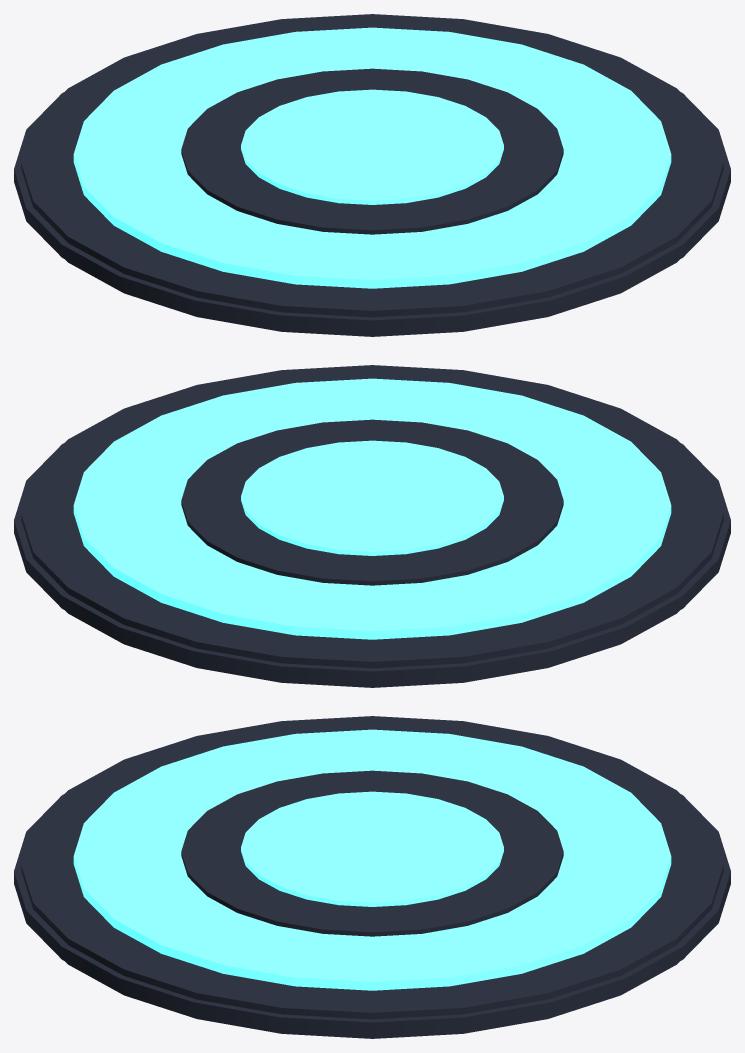
Rendered from spawn_pad.glb.
The picture shows the model from 3 angles, top to bottom: view 1: azimuth 30°, elevation 25°; view 2: azimuth 150°, elevation 25°; view 3: azimuth 270°, elevation 25°; orthographic projection.
Parts seen in each view (by area): view 1: spawn_pad; view 2: spawn_pad; view 3: spawn_pad.
Part boxes in pixels (x1,y1,x2,y2): spawn_pad: [14, 14, 730, 336]; spawn_pad: [14, 365, 730, 687]; spawn_pad: [14, 716, 730, 1038].
Size of the model in its own units: 3 by 0.2 by 3.
